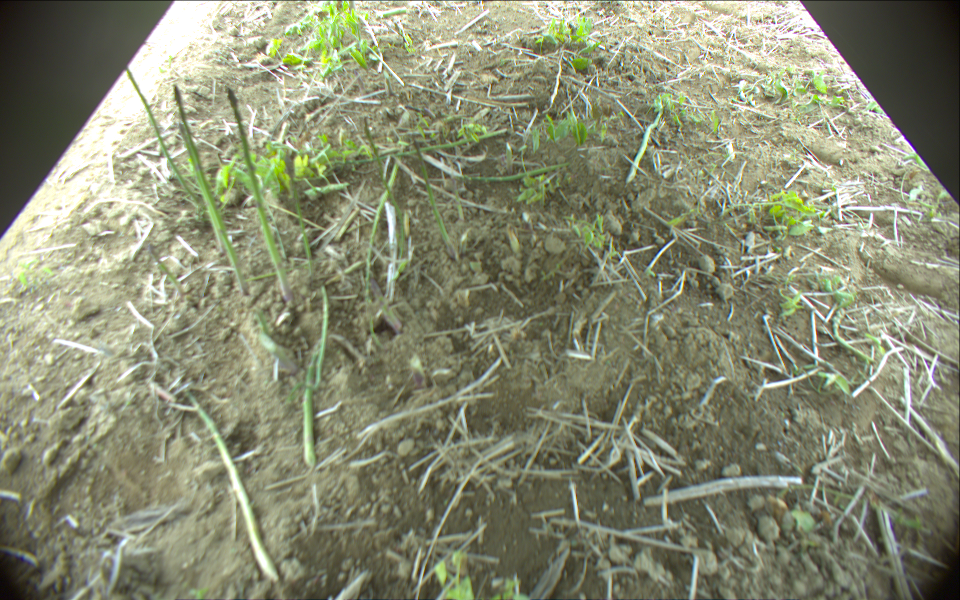aspa: (189, 390, 279, 582), (175, 85, 249, 293), (228, 87, 288, 300), (120, 50, 199, 203), (362, 158, 401, 333), (178, 122, 227, 253), (341, 127, 508, 165), (411, 140, 448, 254), (284, 151, 315, 266), (628, 98, 668, 180), (364, 118, 398, 214), (450, 163, 570, 187), (147, 245, 189, 305), (831, 306, 876, 362), (300, 342, 318, 467), (315, 285, 330, 390)
